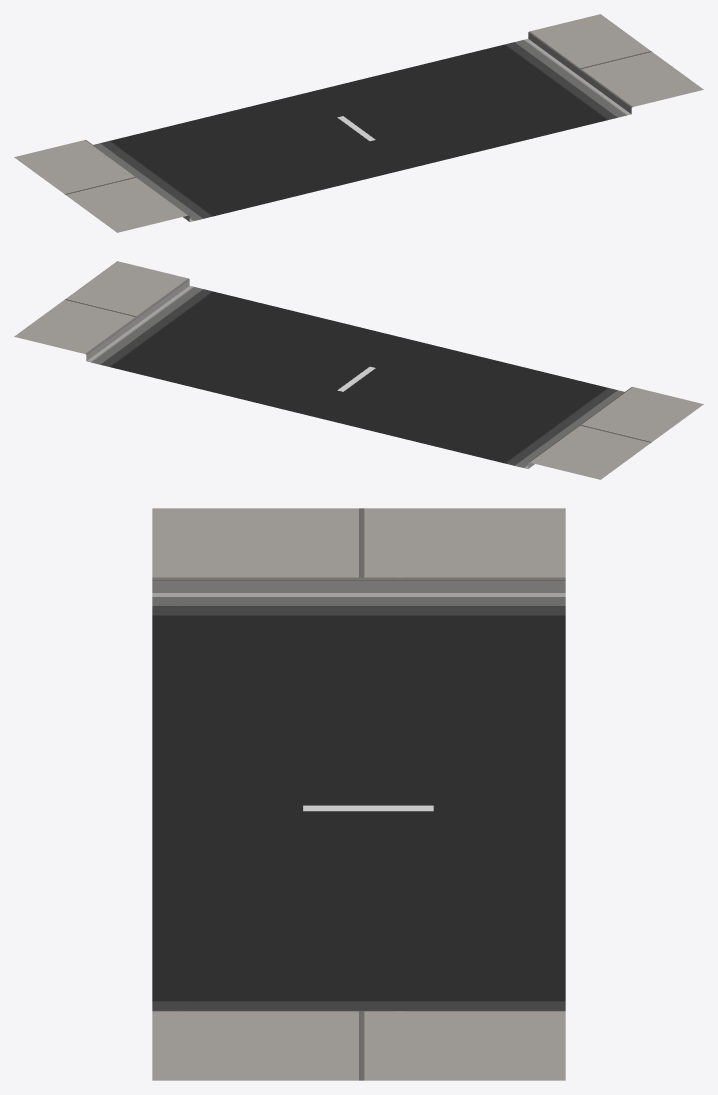
The model's file is Road_Tile.FBX.
3 renders of one model, top to bottom at view 1: azimuth 30°, elevation 25°; view 2: azimuth 150°, elevation 25°; view 3: azimuth 270°, elevation 25°, orthographic. The views are drawn at different scales.
Parts seen in each view (by area): view 1: Road; view 2: Road; view 3: Road.
Boxes of the visible parts, left/top/right/bottom form: Road: left=14, top=14, right=703, bottom=232; Road: left=14, top=261, right=703, bottom=479; Road: left=152, top=508, right=565, bottom=1080.
Size of the model in its own units: 794 by 9.03 by 242.
1 material, 1 textured.
